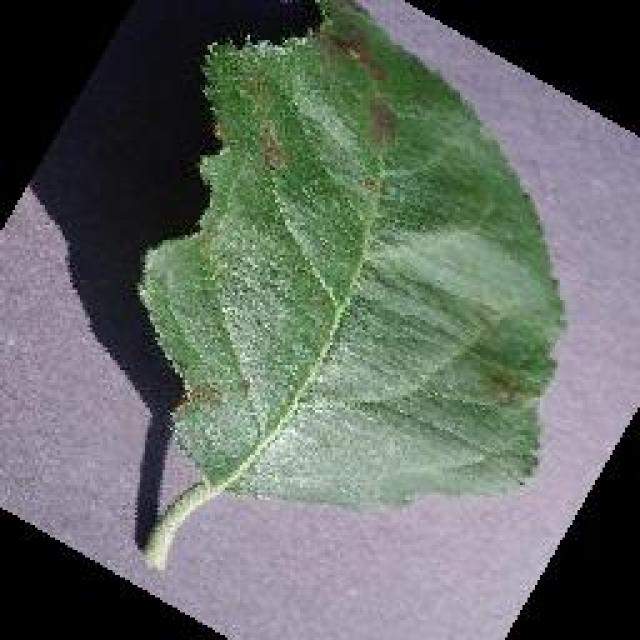apple scab disease: (130, 0, 568, 570)
